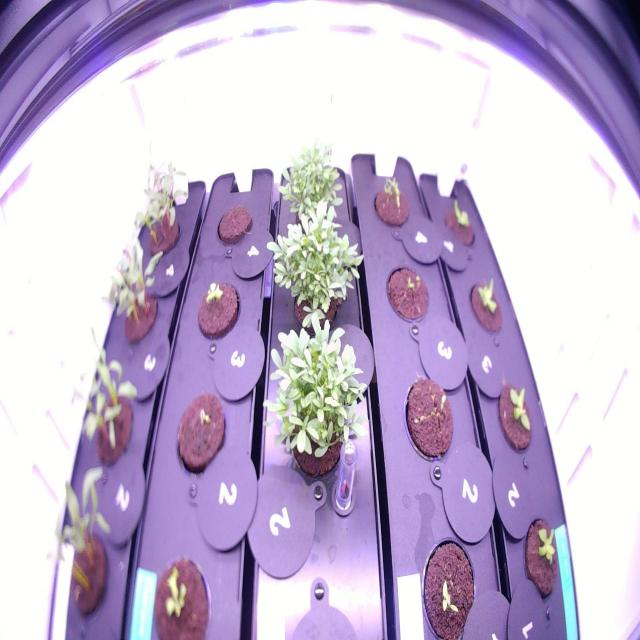germination: (35, 458, 119, 622), (67, 333, 143, 472), (102, 232, 165, 350), (415, 528, 482, 636), (128, 157, 192, 263), (399, 362, 458, 470), (168, 381, 230, 483), (381, 255, 432, 332), (366, 167, 413, 235)
pod: (209, 198, 257, 252)
young: (144, 546, 215, 638), (520, 509, 566, 613), (491, 373, 540, 466), (194, 272, 243, 343), (466, 269, 512, 341), (440, 192, 480, 255)
